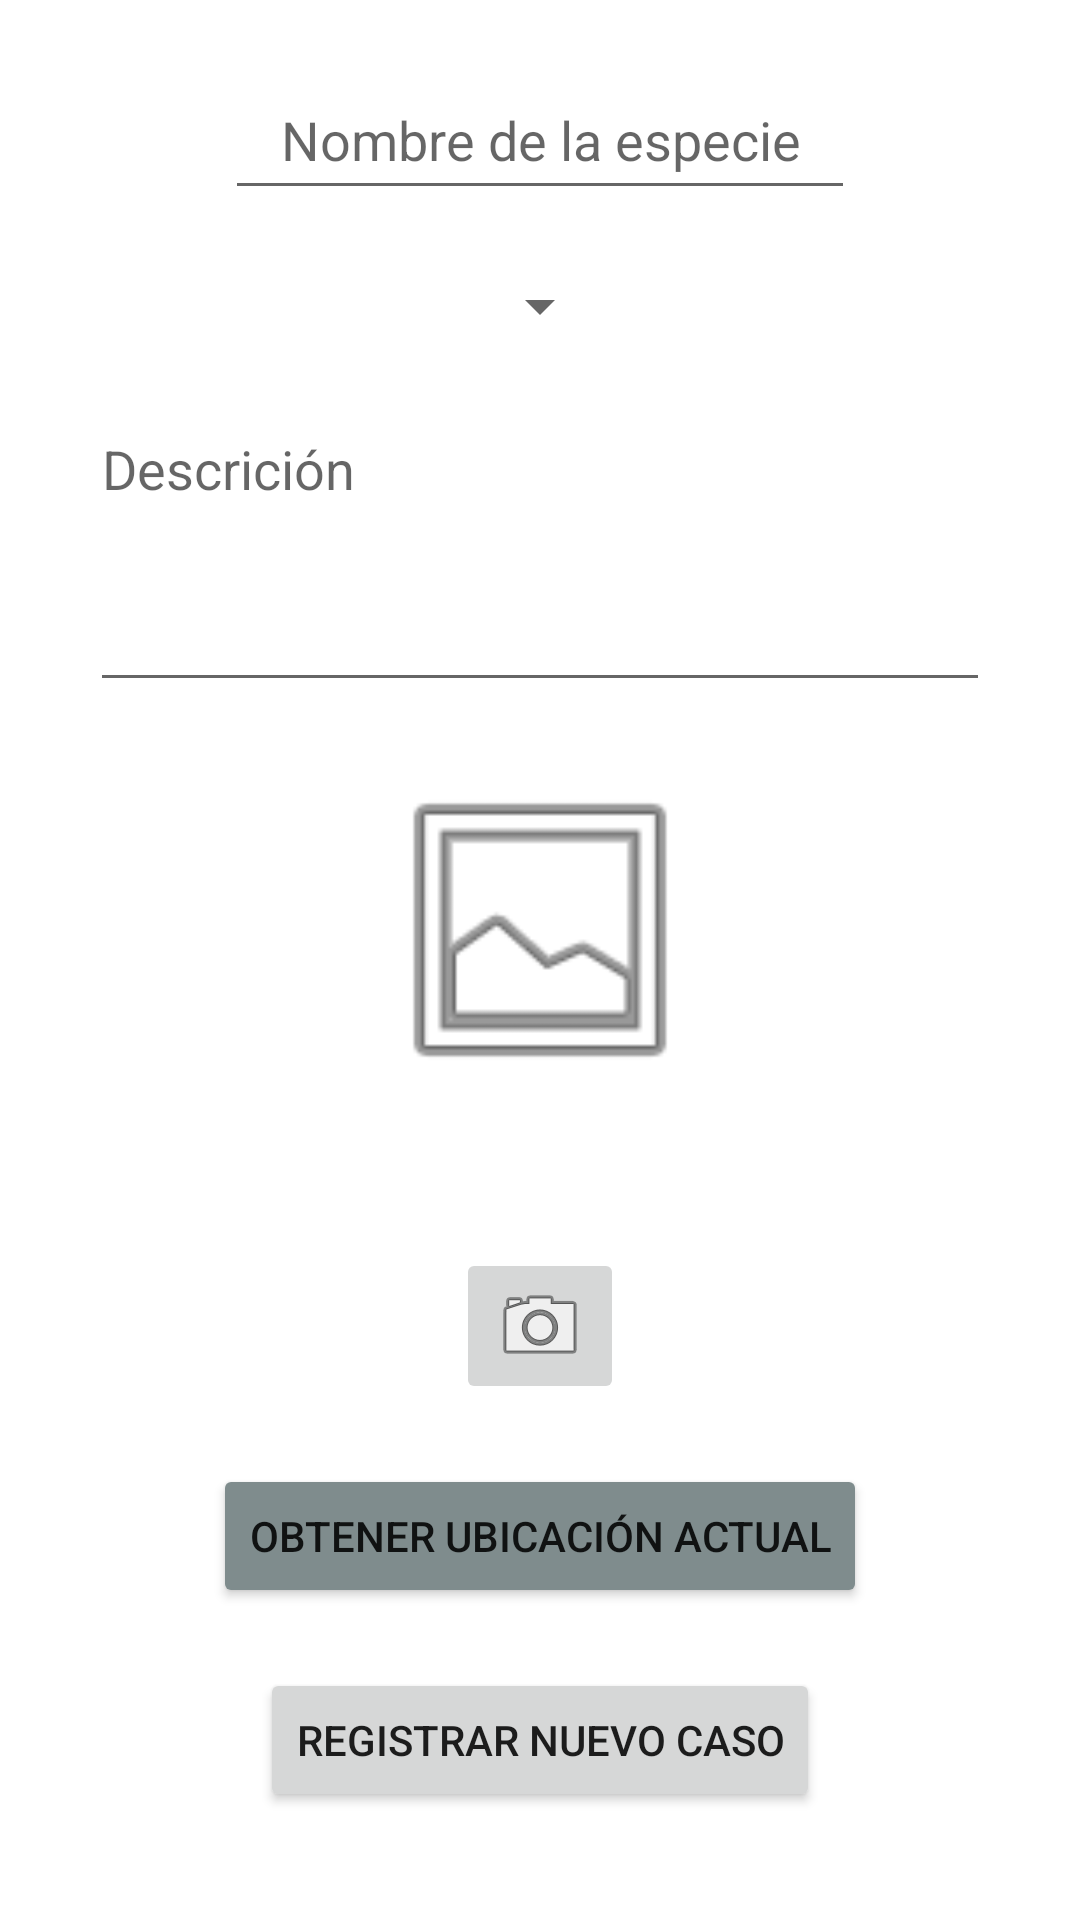

Screen size 1080 x 1920. Icon name, then its box in pixels as (left=x1, top=y1, right=x2, bottom=y2):
camera: (left=468, top=1266, right=612, bottom=1386)
gallery: (left=413, top=803, right=667, bottom=1057)
